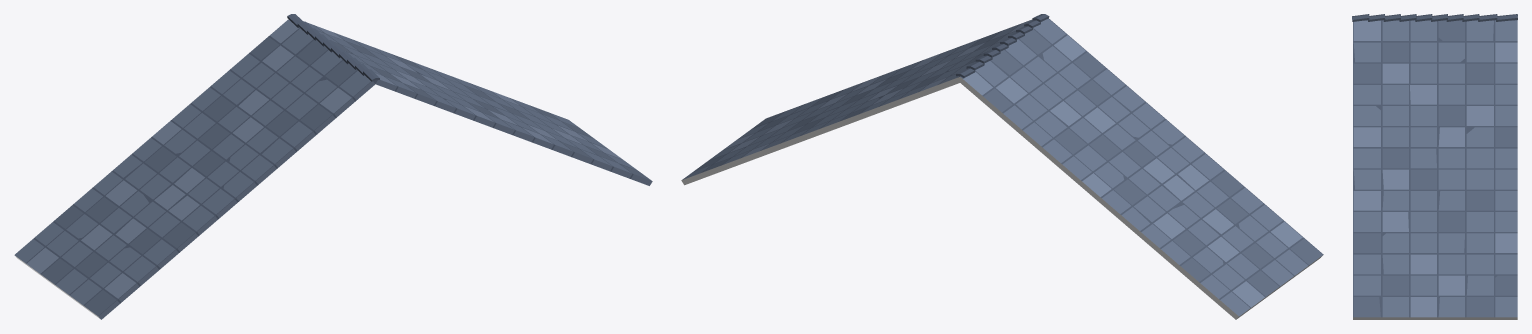
Rendered from Roof4_C7_03.fbx.
3 views of the same model, side by side, from view 1: azimuth 30°, elevation 25°; view 2: azimuth 150°, elevation 25°; view 3: azimuth 270°, elevation 25° (orthographic). The views are drawn at different scales.
Parts seen in each view (by area): view 1: Roof4_C7_03; view 2: Roof4_C7_03; view 3: Roof4_C7_03.
Part boxes in pixels (left/top/right/bottom): Roof4_C7_03: left=14, top=14, right=652, bottom=319; Roof4_C7_03: left=681, top=14, right=1323, bottom=319; Roof4_C7_03: left=1352, top=14, right=1517, bottom=319.
Bounding box in the file's own units: 1105 × 338 × 292.
